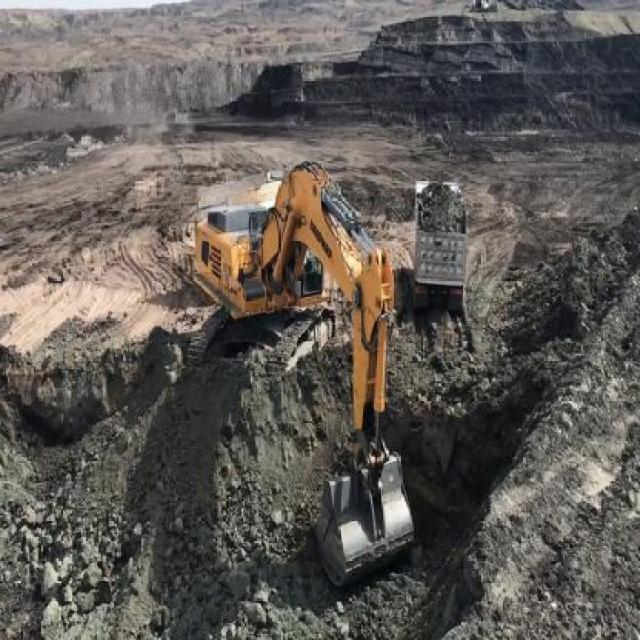Dump Truck: (414, 181, 468, 299)
Excavator: (196, 163, 413, 592)
